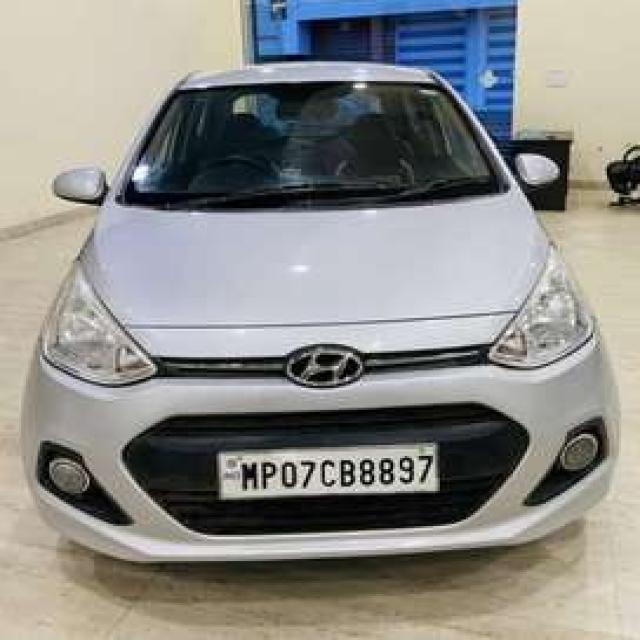licenseplate: (217, 444, 437, 497)
